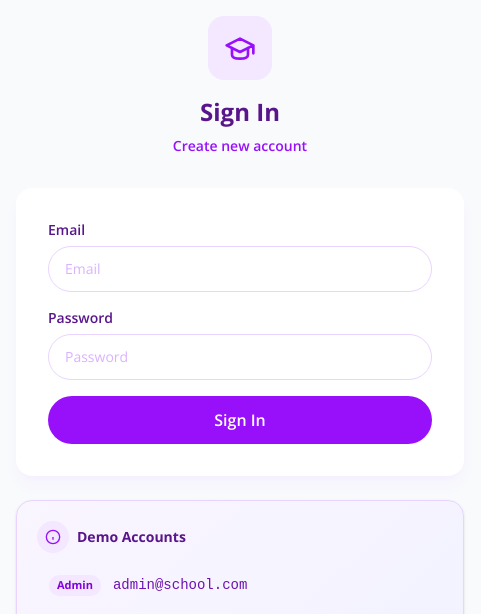
Test: LoginPage › shows error message on failed login
The image size is (481, 614).
Type "bad@example.com" into the field labelled "Email".
click(240, 269); type("bad@example.com")  # box [48,246,432,292]
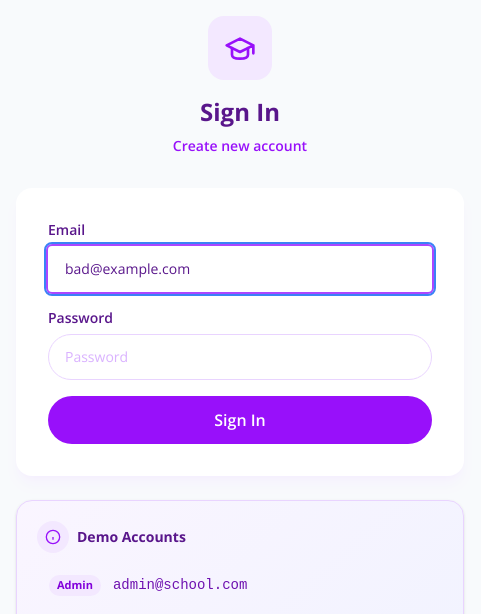
Type "wrong" into the password field labelled "Password".
click(240, 357); type("wrong")  # box [48,334,432,380]
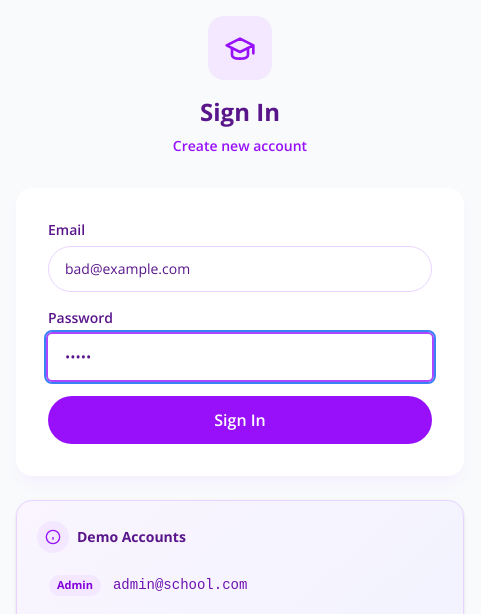
Click the button "Sign In".
click(240, 420)  # box [48,396,432,444]
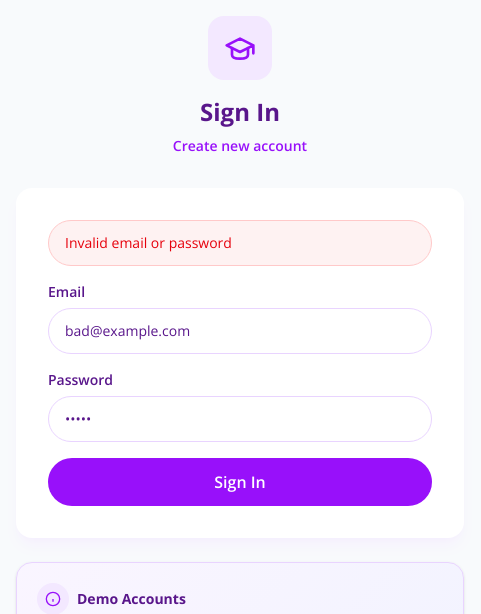
Result: the text "Invalid email or password" is shown at [48,220,432,266]
